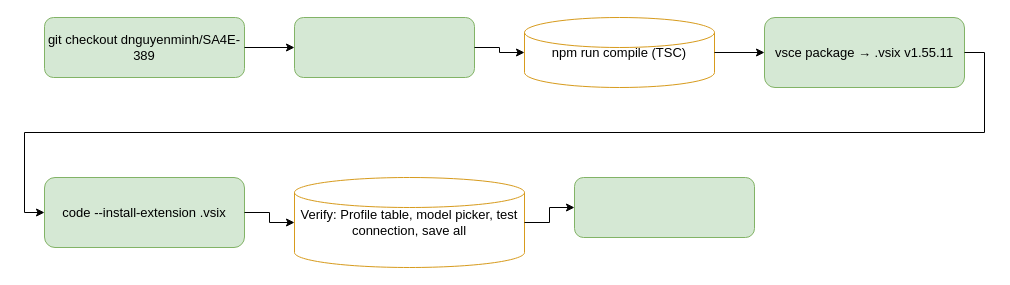
The diagram is 1010 pixels wide and 285 high, and some of its shapes have lost their labels. The centre of each missing label's shape, as x and y in pixels:
"Deployment Done (UAT ready)" goes at point (664, 207).
"npm ci (deps)" goes at point (384, 47).
